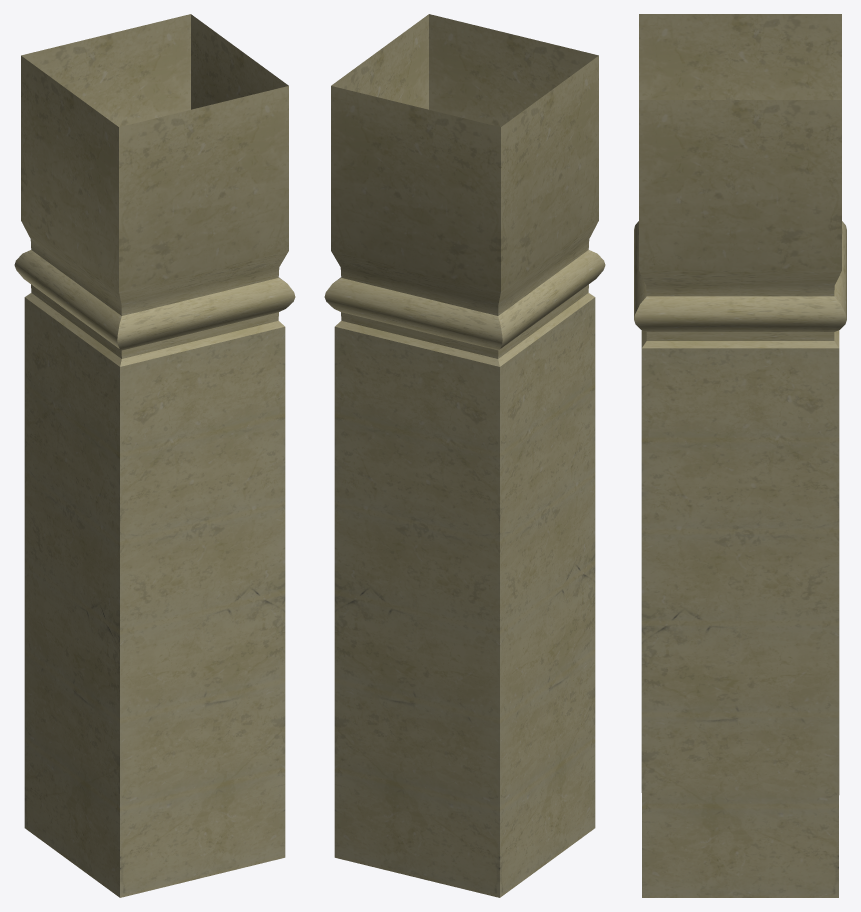
Rendered from Trim_Column_Top.gltf.
3 renders of one model, left to right at view 1: azimuth 30°, elevation 25°; view 2: azimuth 150°, elevation 25°; view 3: azimuth 270°, elevation 25°, orthographic. The views are drawn at different scales.
Parts seen in each view (by area): view 1: Trim_Column_Top; view 2: Trim_Column_Top; view 3: Trim_Column_Top.
Boxes of the visible parts, x1,y1,x2,y2 form: Trim_Column_Top: (14, 14, 295, 897); Trim_Column_Top: (324, 14, 605, 897); Trim_Column_Top: (634, 14, 846, 897).
Bounding box in the file's own units: 0.7242 × 3 × 0.7242.
Materials: 1 (1 with a texture image).
